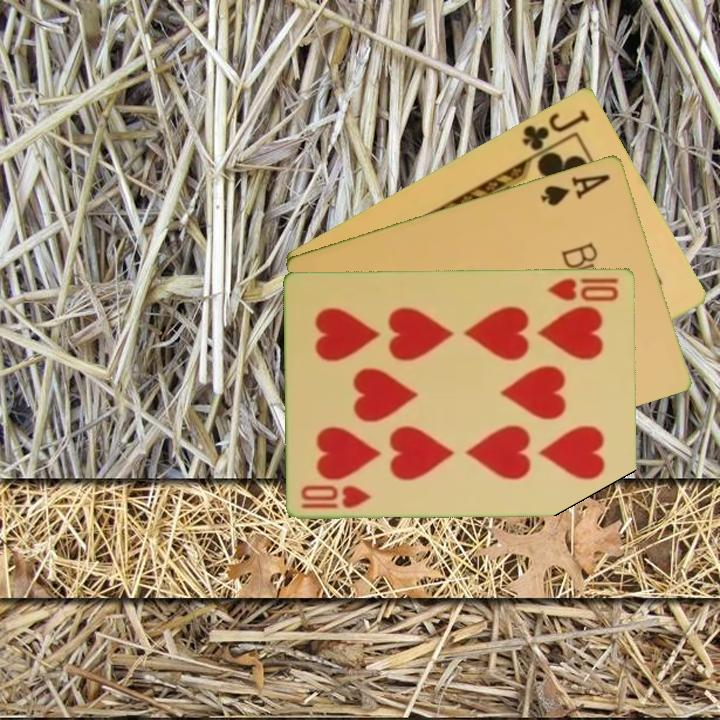10h: (544, 274, 622, 304), (297, 481, 374, 511)
As: (537, 170, 613, 209)
Jc: (518, 106, 592, 160)
